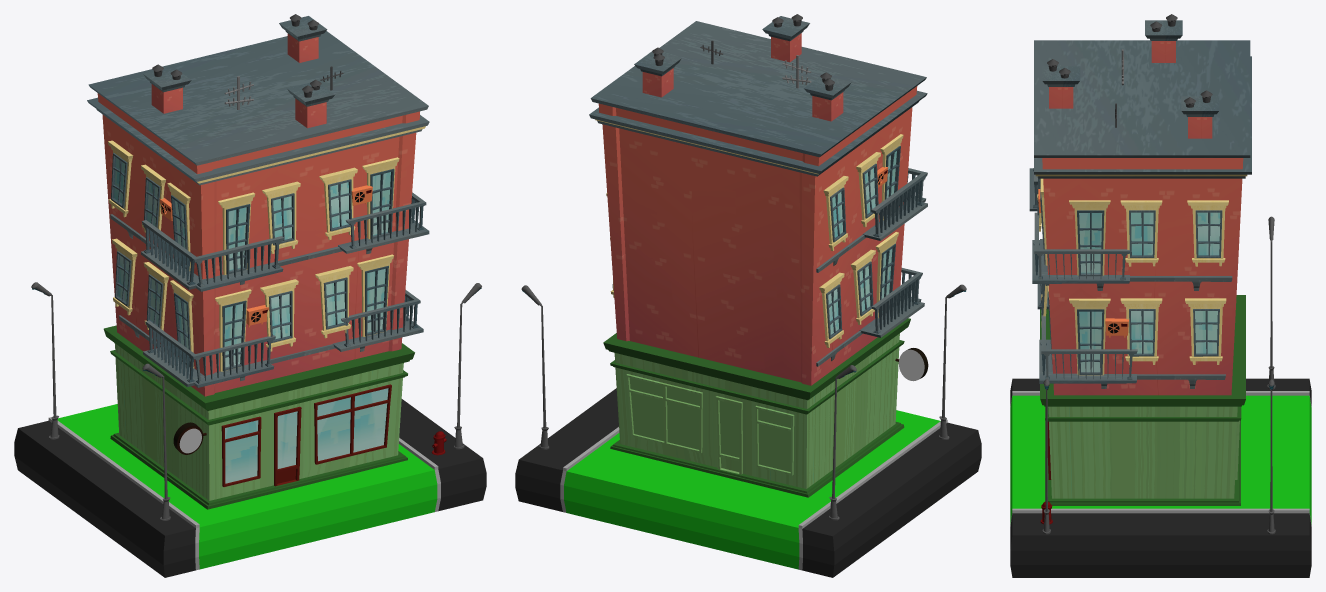
3 views of the same model, side by side, from view 1: azimuth 30°, elevation 25°; view 2: azimuth 150°, elevation 25°; view 3: azimuth 270°, elevation 25° (orthographic). The views are drawn at different scales.
Visible parts, largest first — view 1: huiutugou_2064_21, huiutugou_2064_22, huiutugou_2064_137, huiutugou_2064_143, huiutugou_2064_17, huiutugou_2064_18, huiutugou_2064_20, huiutugou_2064_19, huiutugou_2064_23, huiutugou_2064_138, huiutugou_2064_11, huiutugou_2064_83 (+44 smaller); view 2: huiutugou_2064_21, huiutugou_2064_17, huiutugou_2064_22, huiutugou_2064_137, huiutugou_2064_143, huiutugou_2064_18, huiutugou_2064_23, huiutugou_2064_138, huiutugou_2064_83, huiutugou_2064_86, huiutugou_2064_25, huiutugou_2064_87 (+11 smaller); view 3: huiutugou_2064_21, huiutugou_2064_22, huiutugou_2064_143, huiutugou_2064_17, huiutugou_2064_137, huiutugou_2064_18, huiutugou_2064_138, huiutugou_2064_23, huiutugou_2064_127, huiutugou_2064_61, huiutugou_2064_70, huiutugou_2064_67 (+30 smaller).
Boxes of the visible parts, x1=… form: huiutugou_2064_21: x1=97, y1=93, x2=419, y2=396; huiutugou_2064_22: x1=88, y1=31, x2=428, y2=165; huiutugou_2064_137: x1=57, y1=404, x2=437, y2=569; huiutugou_2064_143: x1=14, y1=399, x2=486, y2=577; huiutugou_2064_17: x1=114, y1=343, x2=403, y2=500; huiutugou_2064_18: x1=103, y1=325, x2=414, y2=509; huiutugou_2064_20: x1=225, y1=388, x2=388, y2=483; huiutugou_2064_19: x1=221, y1=384, x2=391, y2=486; huiutugou_2064_23: x1=87, y1=97, x2=429, y2=181; huiutugou_2064_138: x1=48, y1=417, x2=440, y2=570; huiutugou_2064_11: x1=192, y1=236, x2=284, y2=287; huiutugou_2064_83: x1=142, y1=220, x2=195, y2=285; huiutugou_2064_21: x1=598, y1=86, x2=917, y2=385; huiutugou_2064_17: x1=614, y1=333, x2=899, y2=488; huiutugou_2064_22: x1=590, y1=21, x2=926, y2=157; huiutugou_2064_137: x1=564, y1=410, x2=940, y2=569; huiutugou_2064_143: x1=515, y1=388, x2=981, y2=577; huiutugou_2064_18: x1=603, y1=318, x2=910, y2=497; huiutugou_2064_23: x1=589, y1=90, x2=927, y2=173; huiutugou_2064_138: x1=560, y1=419, x2=947, y2=570; huiutugou_2064_83: x1=871, y1=173, x2=926, y2=237; huiutugou_2064_86: x1=871, y1=273, x2=922, y2=333; huiutugou_2064_25: x1=597, y1=101, x2=919, y2=176; huiutugou_2064_87: x1=859, y1=301, x2=924, y2=337; huiutugou_2064_21: x1=1042, y1=158, x2=1243, y2=395; huiutugou_2064_22: x1=1034, y1=40, x2=1250, y2=157; huiutugou_2064_143: x1=1010, y1=378, x2=1311, y2=577; huiutugou_2064_17: x1=1048, y1=406, x2=1239, y2=498; huiutugou_2064_137: x1=1010, y1=395, x2=1311, y2=524; huiutugou_2064_18: x1=1040, y1=295, x2=1245, y2=505; huiutugou_2064_138: x1=1010, y1=391, x2=1311, y2=526; huiutugou_2064_23: x1=1034, y1=56, x2=1251, y2=174; huiutugou_2064_127: x1=1034, y1=249, x2=1130, y2=280; huiutugou_2064_61: x1=1041, y1=349, x2=1137, y2=379; huiutugou_2064_70: x1=1079, y1=311, x2=1102, y2=371; huiutugou_2064_67: x1=1079, y1=213, x2=1102, y2=273.
Size of the model in its own units: 897 by 1108 by 684.
